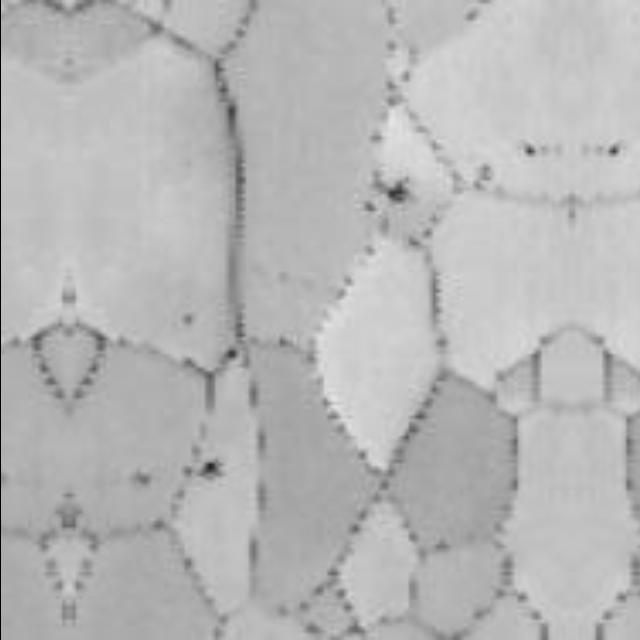good_void: (370, 166, 422, 216), (194, 459, 228, 496), (125, 464, 157, 495), (515, 137, 540, 164), (604, 137, 628, 164), (180, 312, 196, 330)
